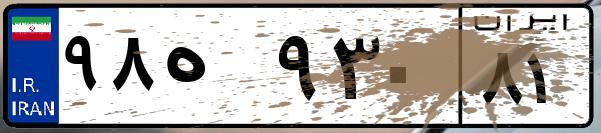0: (385, 28, 445, 110)
1: (525, 38, 570, 115)
3: (330, 28, 385, 110)
8: (475, 38, 525, 113), (110, 28, 158, 98)
9: (270, 28, 330, 110), (57, 26, 110, 100)
ه: (158, 20, 270, 120)
